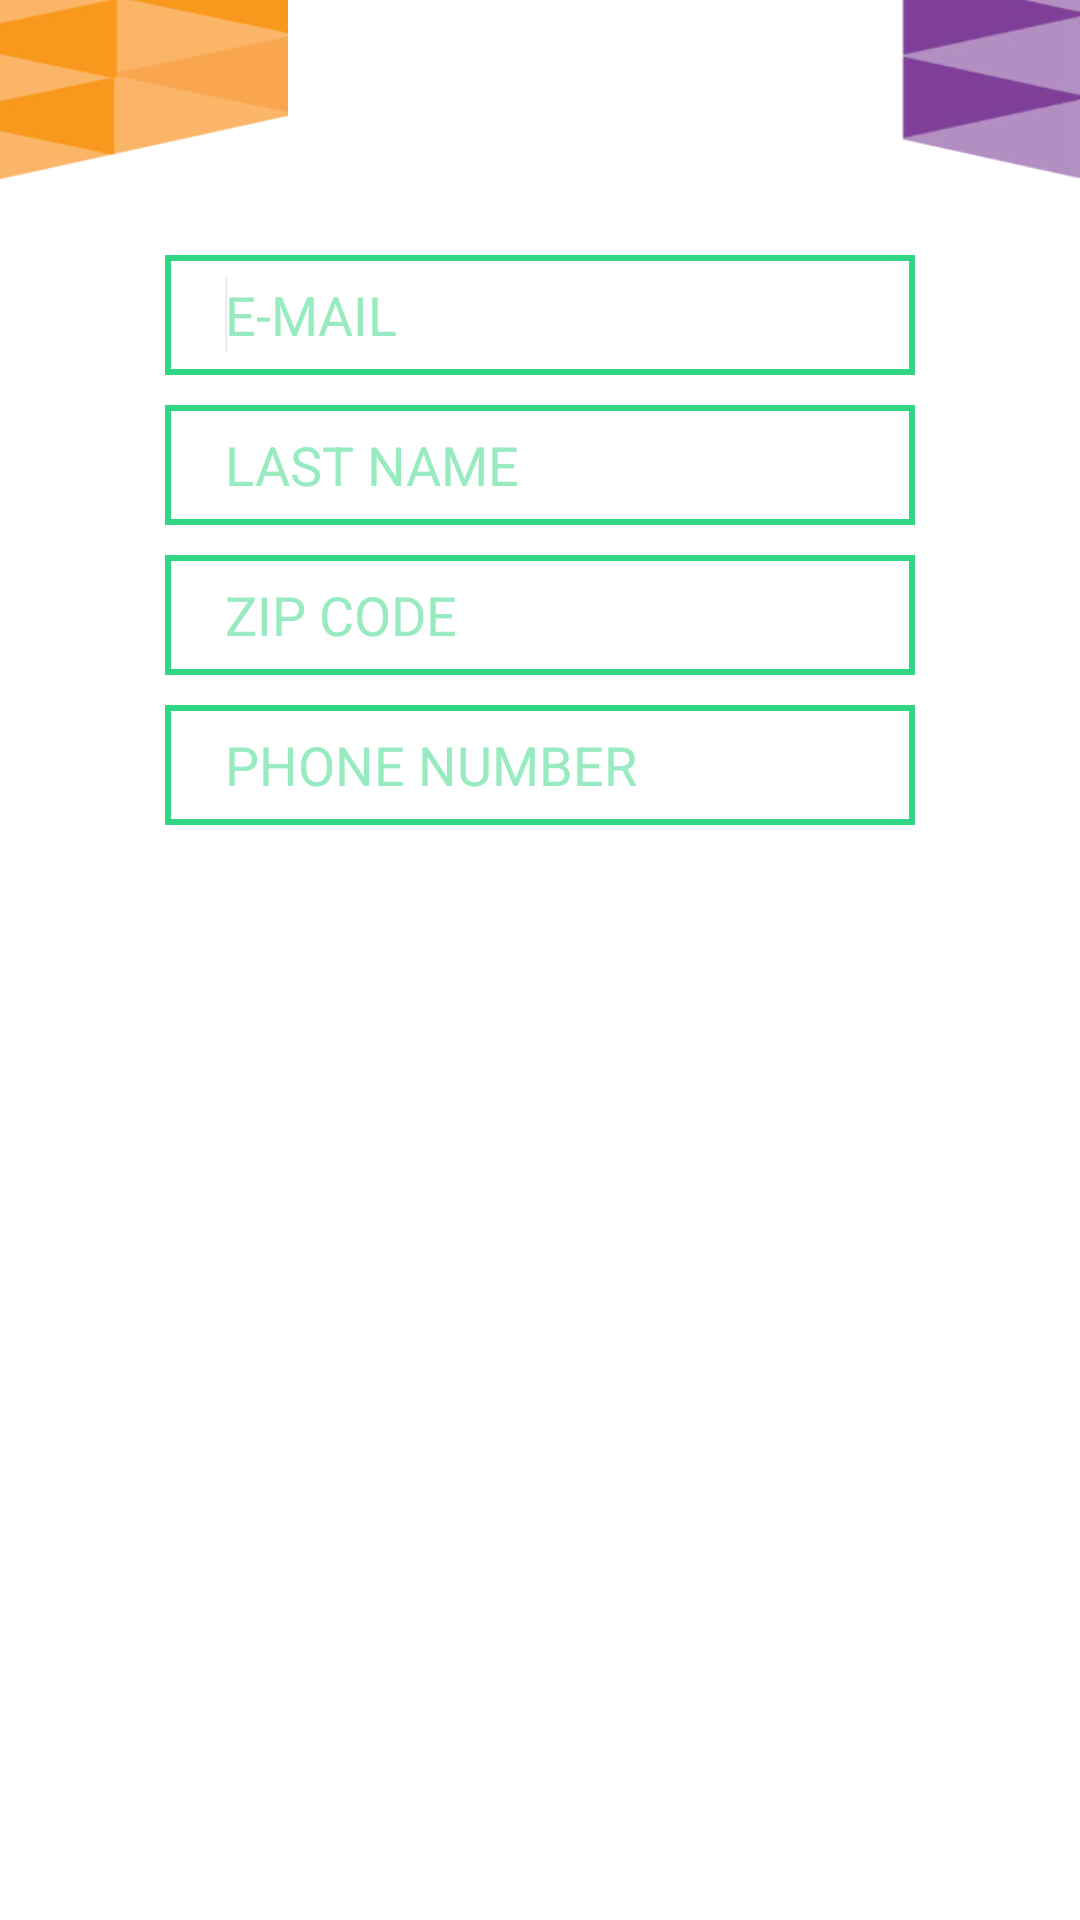

Icons on this 1080×1920 Android screen, each with the point to tap as (x,y):
left top: (144,89)
right top: (991,89)
